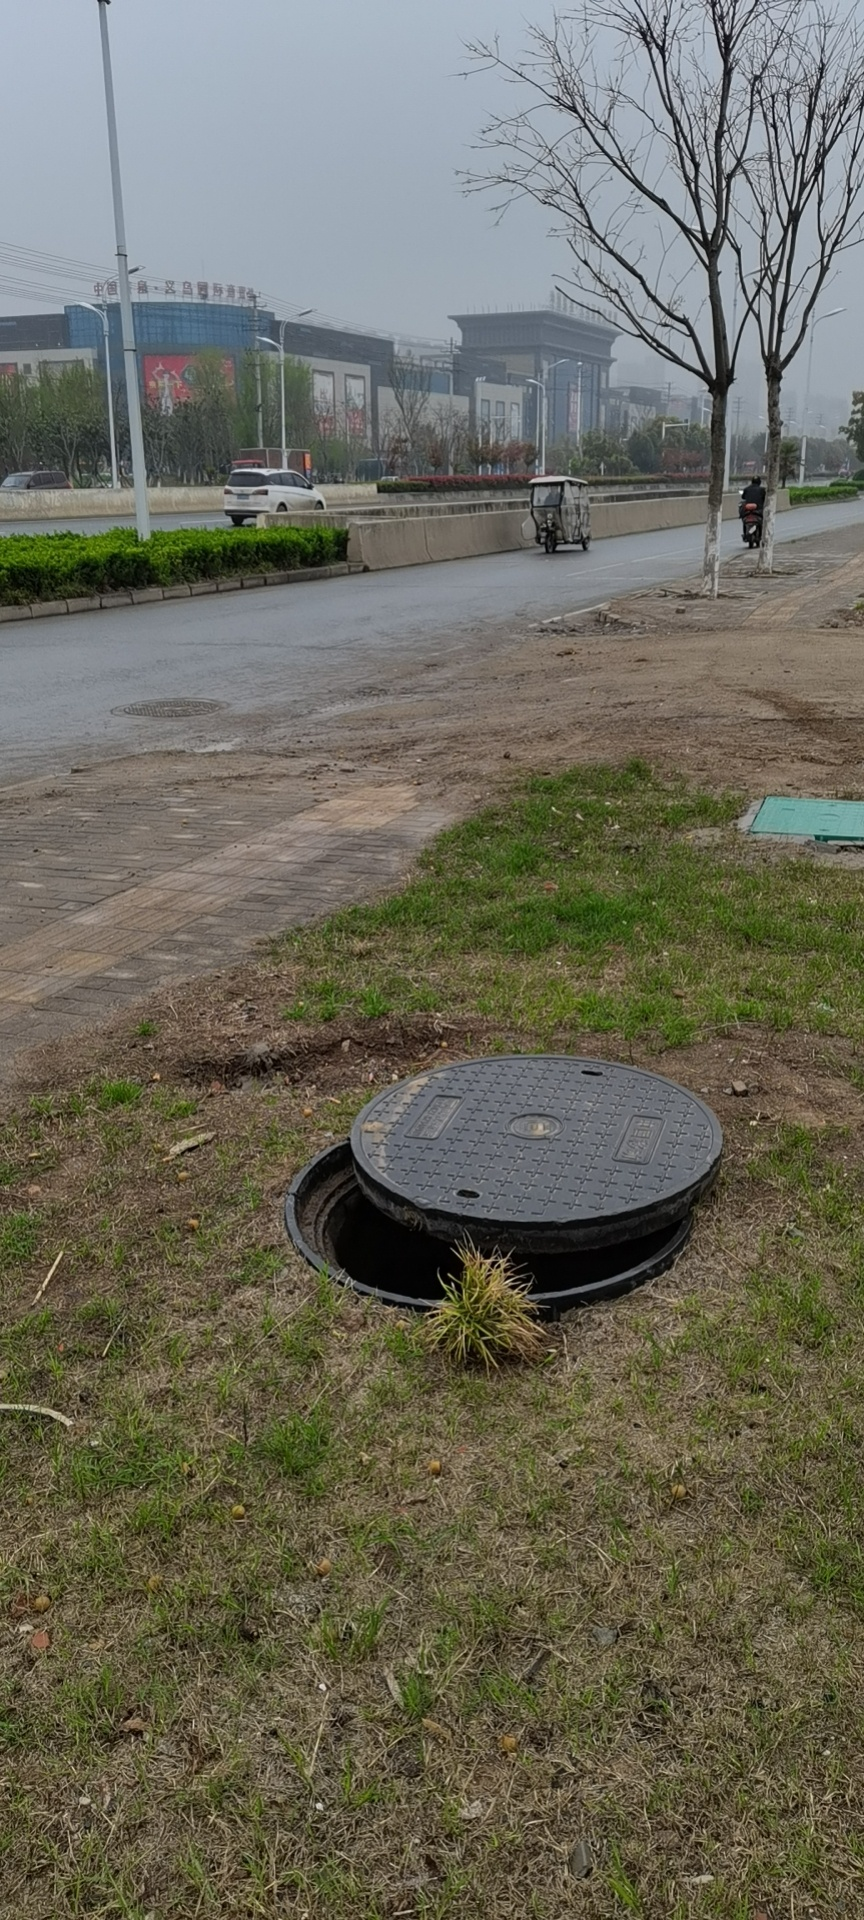uncovered: (281, 1056, 721, 1318)
